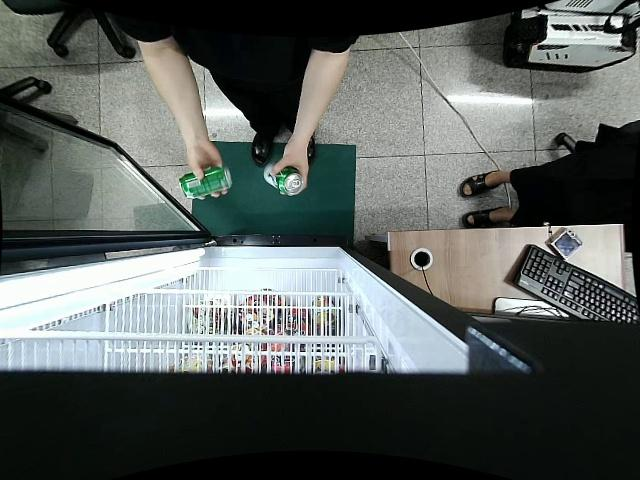00_hand: (189, 141, 229, 203), (271, 143, 310, 197)
12_chilsungCider: (179, 164, 235, 197), (263, 161, 306, 197)
